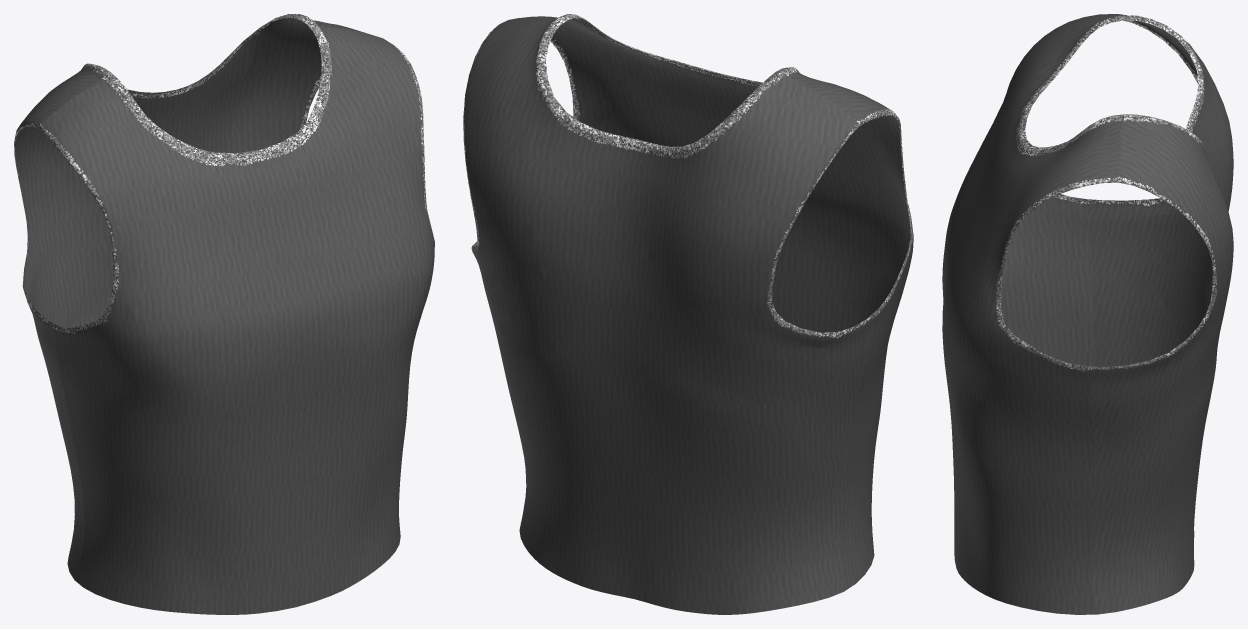
File: elvs-male-tankshirt1.glb
3 views of the same model, side by side, from view 1: azimuth 30°, elevation 25°; view 2: azimuth 150°, elevation 25°; view 3: azimuth 270°, elevation 25° (orthographic). The views are drawn at different scales.
Visible parts, largest first — view 1: male tankshirt; view 2: male tankshirt; view 3: male tankshirt.
Part boxes in pixels (x1,y1,x2,y2): male tankshirt: (14, 14, 434, 614); male tankshirt: (463, 14, 913, 614); male tankshirt: (942, 14, 1233, 614).
Size of the model in its own units: 34.07 by 46.09 by 24.94.
Materials: 1 (1 with a texture image).
